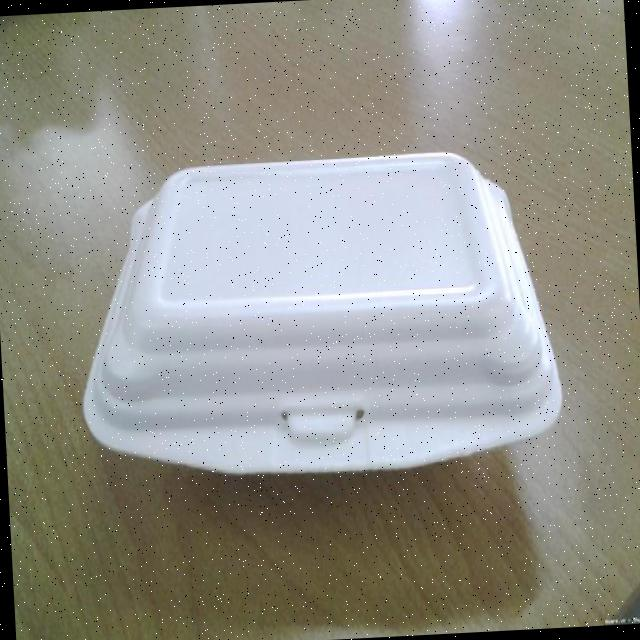styrofoam: (69, 142, 567, 488)
